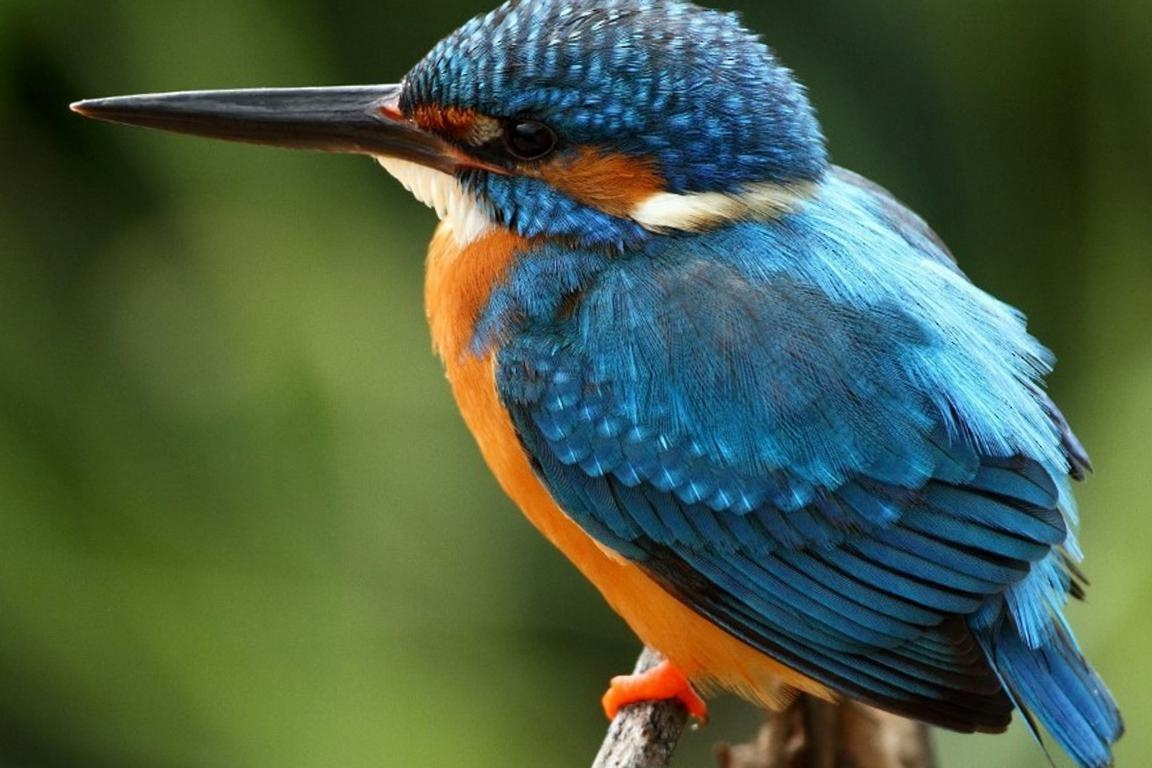kingfisher: (62, 1, 1152, 768)
